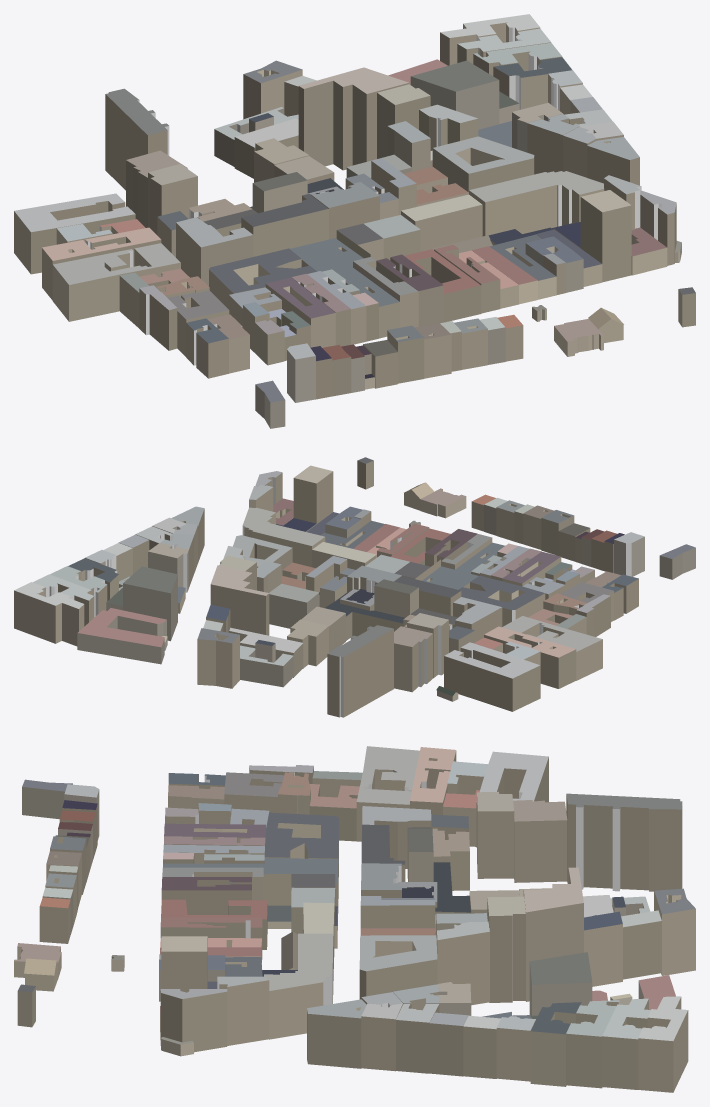
3 views of the same model, one above another, from view 1: azimuth 30°, elevation 25°; view 2: azimuth 150°, elevation 25°; view 3: azimuth 270°, elevation 25° (orthographic). The views are drawn at different scales.
Visible parts, largest first — view 1: tuile; view 2: tuile; view 3: tuile.
Boxes of the visible parts, box(x1,y1,x2,y2) form: tuile: box(14, 14, 695, 428); tuile: box(14, 457, 695, 717); tuile: box(14, 746, 695, 1092).
Bounding box in the file's own units: 287 × 38.36 × 262.
